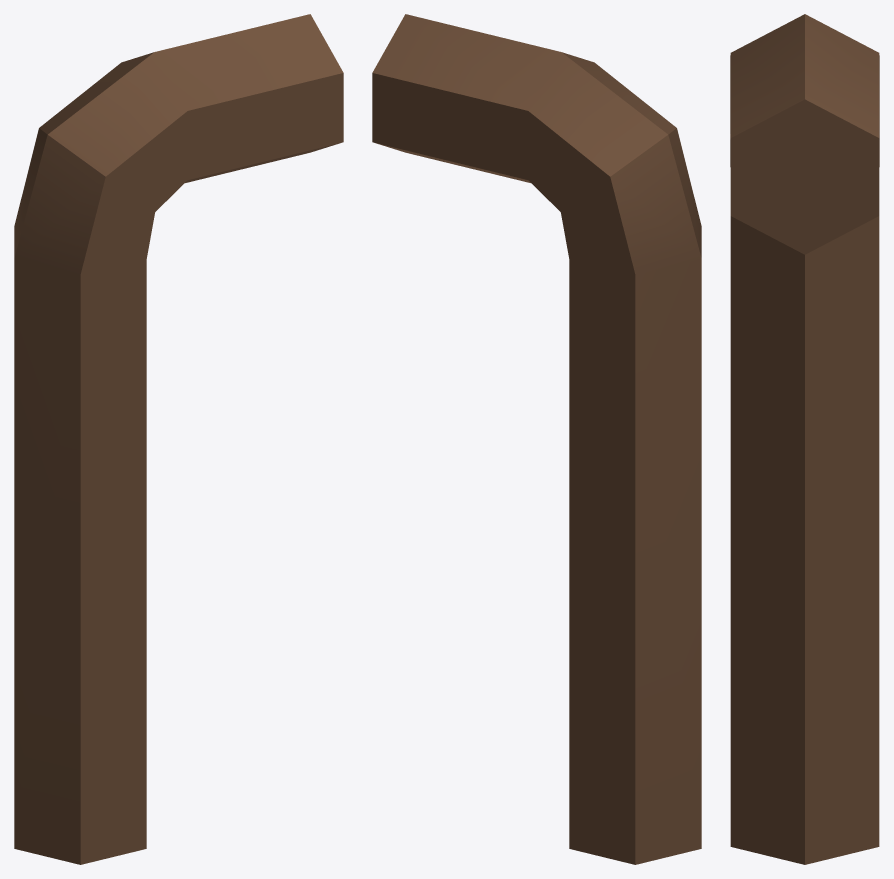
The model's file is SM_Prop_DownPipe_End_01.glb.
3 views of the same model, side by side, from view 1: azimuth 30°, elevation 25°; view 2: azimuth 150°, elevation 25°; view 3: azimuth 270°, elevation 25° (orthographic). The views are drawn at different scales.
Parts seen in each view (by area): view 1: SM_Prop_DownPipe_End_01; view 2: SM_Prop_DownPipe_End_01; view 3: SM_Prop_DownPipe_End_01.
Boxes of the visible parts, <box> form: SM_Prop_DownPipe_End_01: <box>14,14,343,864</box>; SM_Prop_DownPipe_End_01: <box>372,14,701,864</box>; SM_Prop_DownPipe_End_01: <box>730,14,879,864</box>.
Size of the model in its own units: 0.4471 by 1.1 by 0.1745.
1 material, 1 textured.
